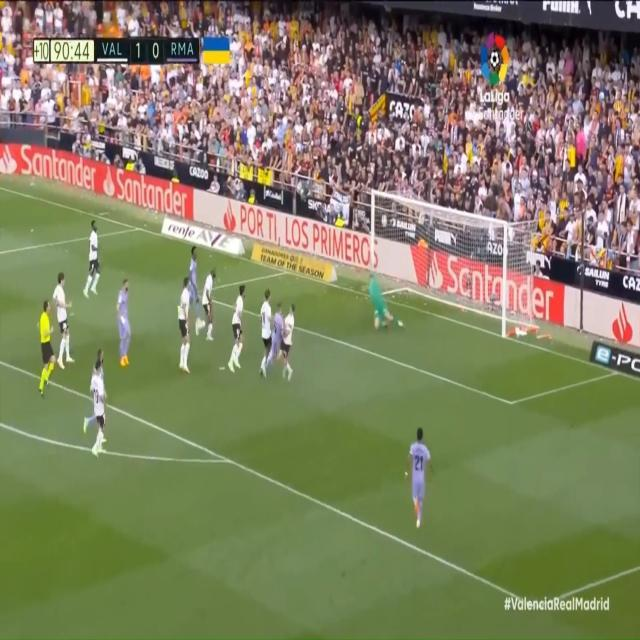goalkeeper: (360, 267, 403, 332)
player: (408, 424, 436, 524), (81, 342, 109, 440), (226, 279, 248, 374), (57, 267, 75, 374), (117, 272, 135, 372), (91, 362, 109, 459), (196, 261, 219, 336), (177, 275, 193, 374), (265, 300, 286, 375), (82, 218, 101, 298), (259, 283, 275, 376), (284, 298, 299, 374), (186, 248, 201, 318)
referee: (35, 297, 56, 401)
